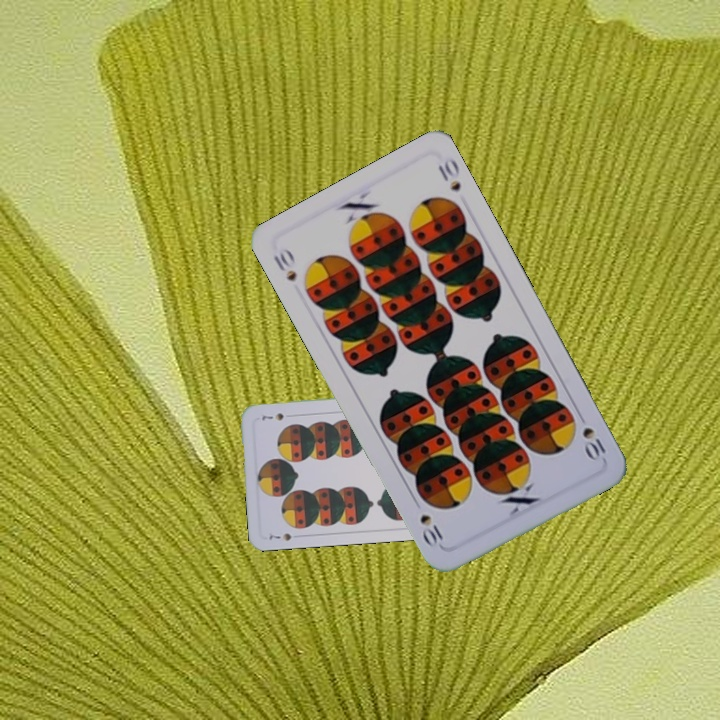S10: (573, 408, 610, 465), (269, 243, 300, 284)
S7: (265, 529, 294, 543)
